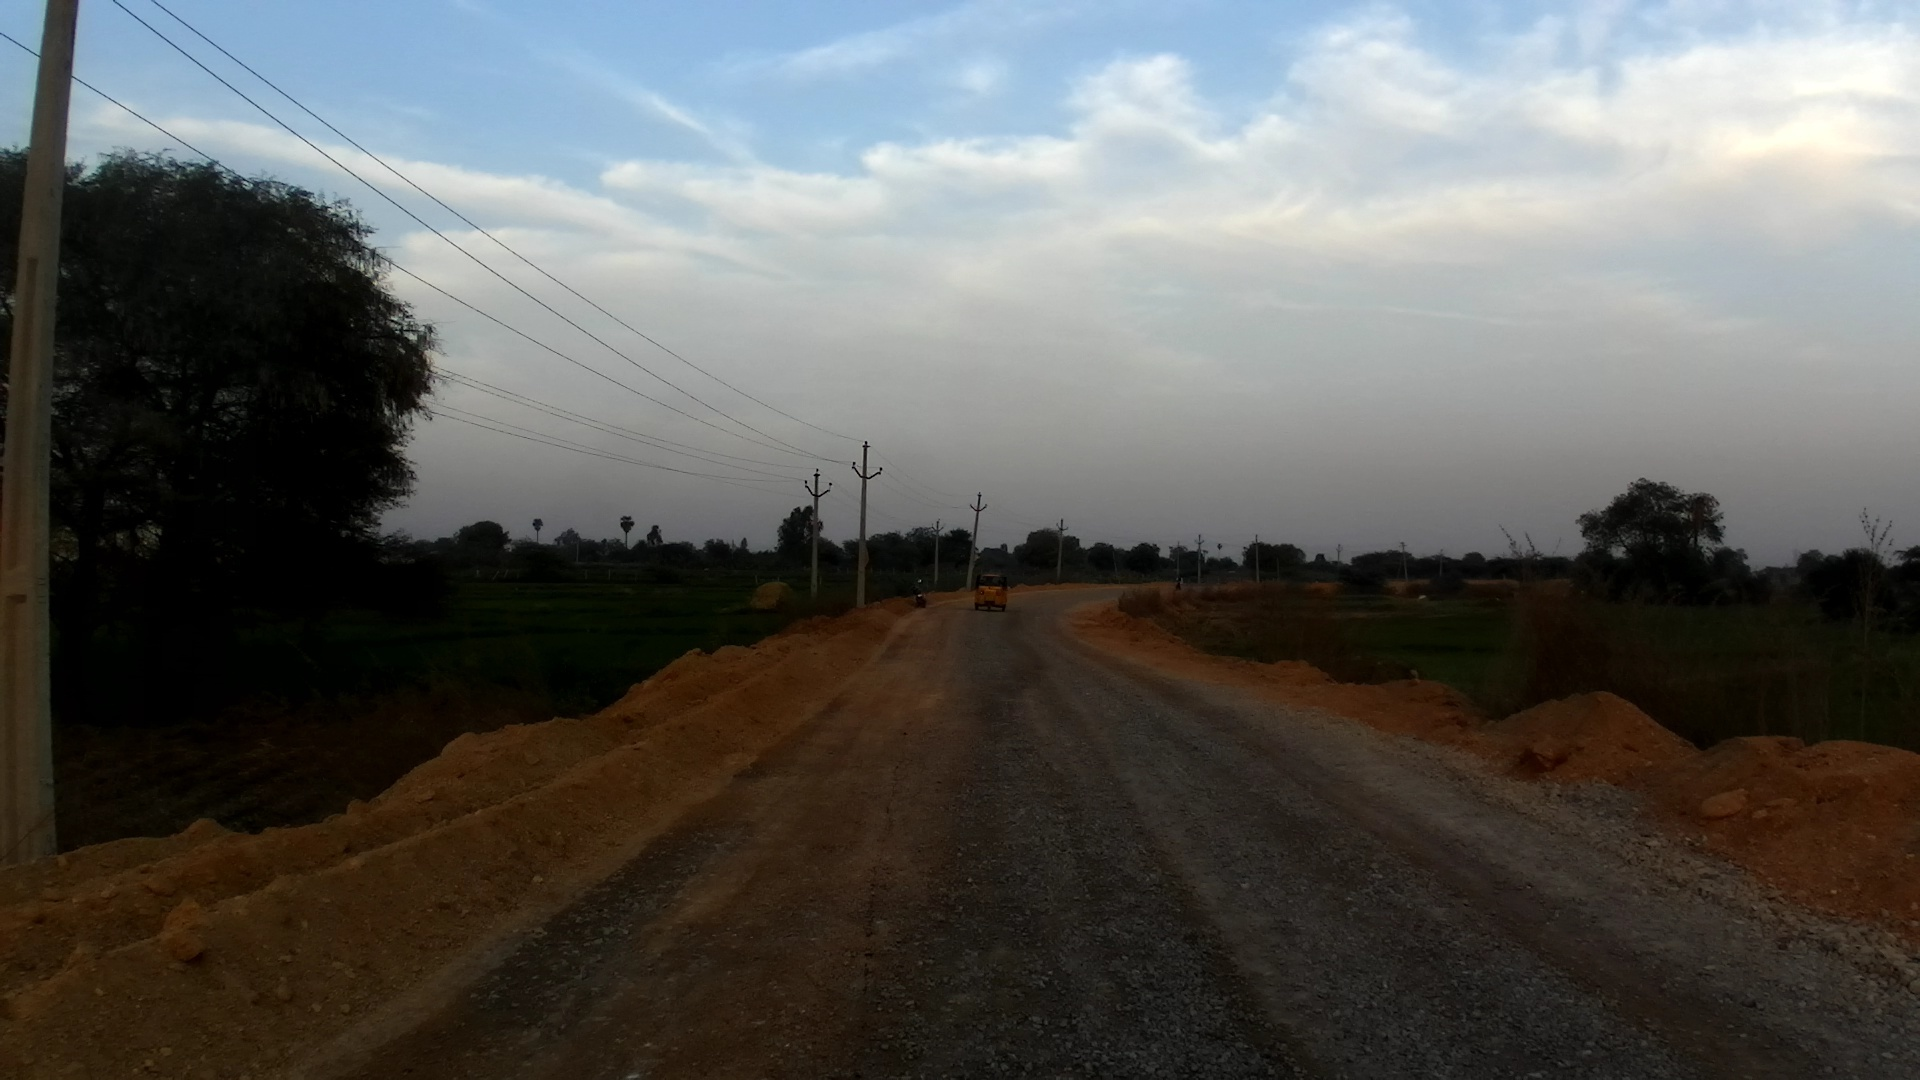autorickshaw: (973, 575, 1010, 613)
motorcycle: (909, 575, 928, 615)
